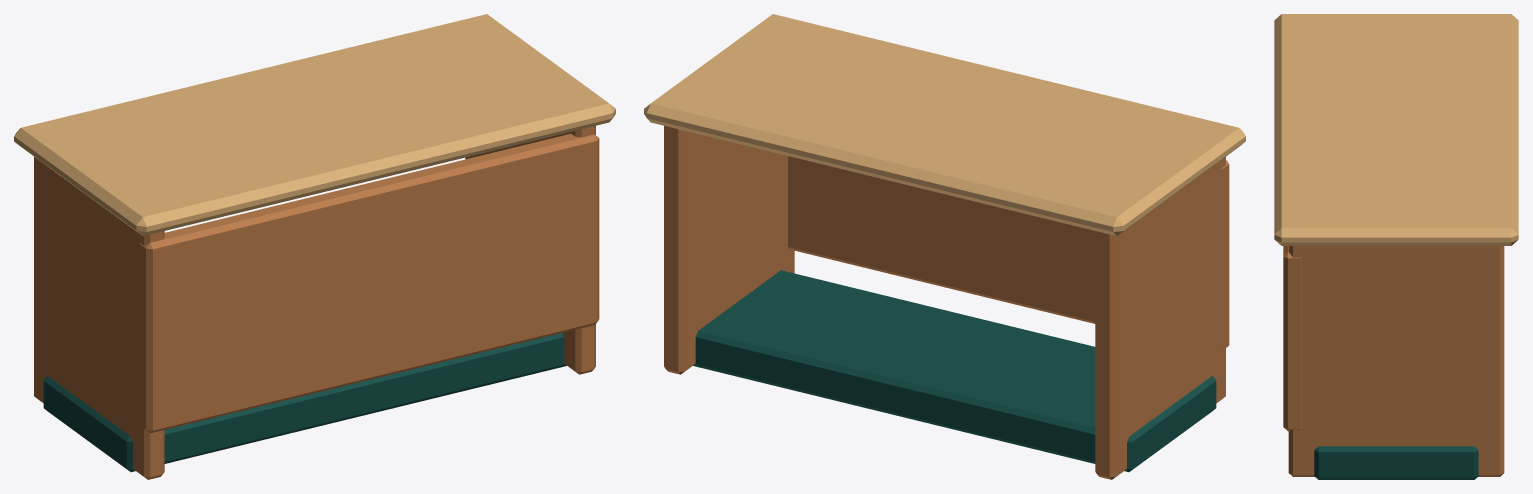
Rendered from teacher_desk.glb.
3 views of the same model, side by side, from view 1: azimuth 30°, elevation 25°; view 2: azimuth 150°, elevation 25°; view 3: azimuth 270°, elevation 25° (orthographic). The views are drawn at different scales.
Parts seen in each view (by area): view 1: Painel frontal, Tampo, Lateral, Rodapé.002, Lateral.001; view 2: Tampo, Rodapé.002, Painel frontal, Lateral, Lateral.001; view 3: Tampo, Lateral.001, Rodapé.002, Painel frontal.
Boxes of the visible parts, x1,y1,x2,y2 form: Painel frontal: (139, 133, 599, 433); Tampo: (14, 14, 615, 235); Lateral: (34, 157, 164, 479); Rodapé.002: (43, 333, 566, 472); Lateral.001: (465, 126, 595, 374); Tampo: (644, 14, 1245, 235); Rodapé.002: (693, 270, 1216, 472); Painel frontal: (788, 156, 1229, 350); Lateral: (1095, 157, 1225, 479); Lateral.001: (664, 126, 794, 374); Tampo: (1274, 14, 1518, 245); Lateral.001: (1288, 246, 1504, 476); Rodapé.002: (1314, 446, 1478, 479); Painel frontal: (1283, 246, 1301, 431).
Bounding box in the file's own units: 1.45 × 0.784 × 0.68.
